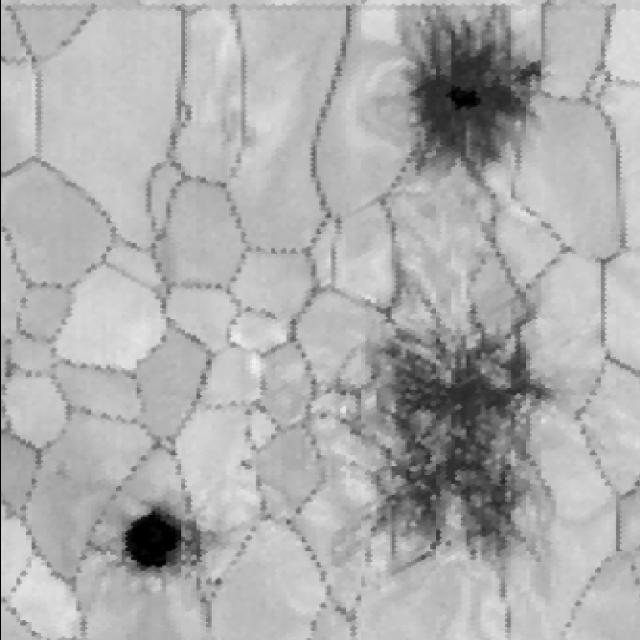good_void: (322, 291, 558, 582), (393, 0, 542, 185), (117, 499, 191, 580), (205, 573, 226, 590), (234, 457, 255, 474), (345, 455, 357, 471), (316, 408, 328, 422)
